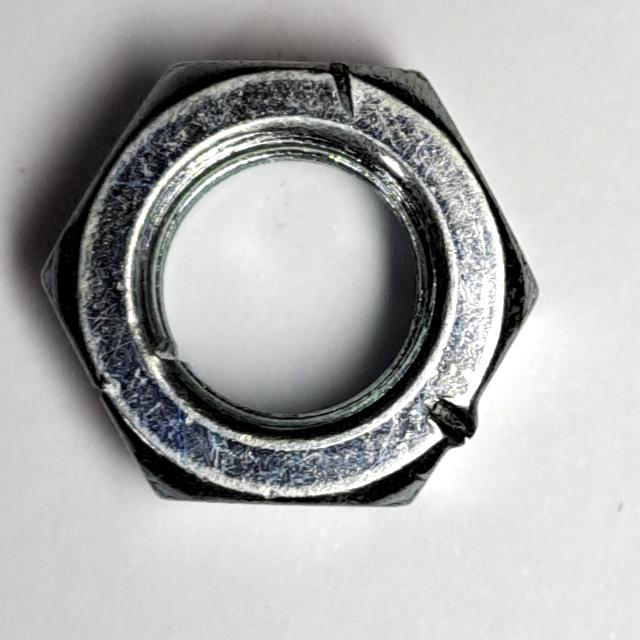Scratches: (32, 43, 556, 524)
